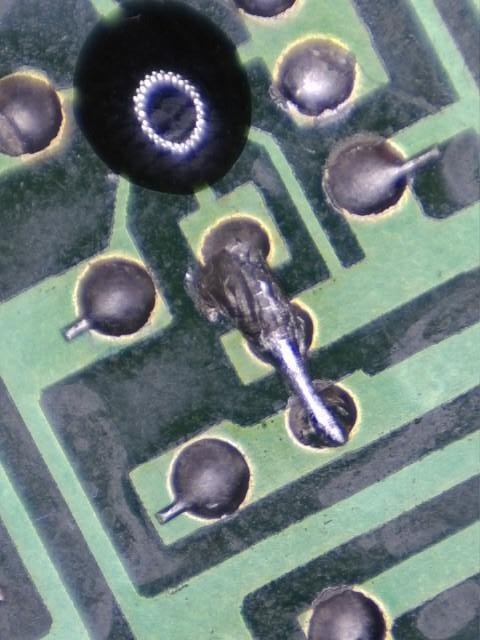pcb_defect: (185, 247, 346, 443)
